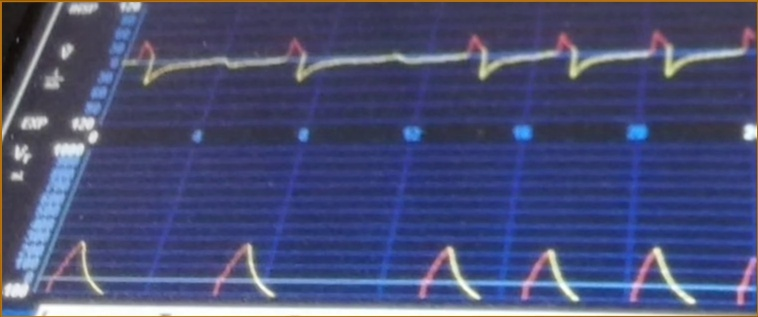Ineffective_effort Flow: (129, 16, 756, 106)
Ineffective_effort Volume: (47, 222, 757, 306)
